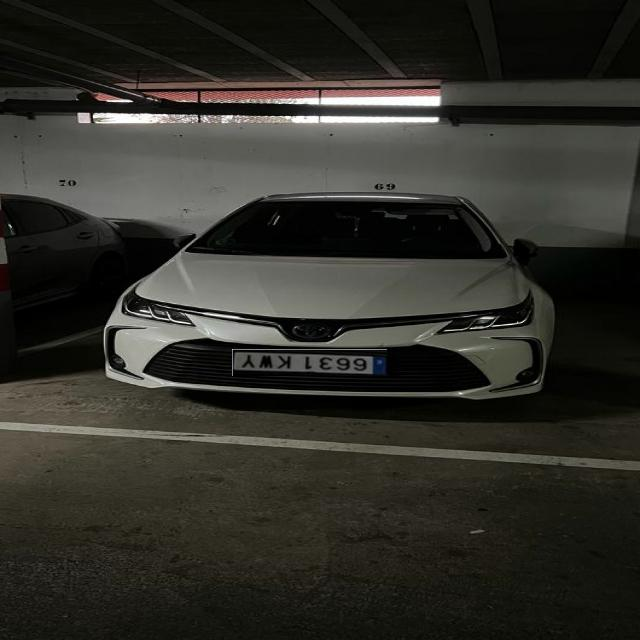License-Plate: (232, 349, 387, 376)
